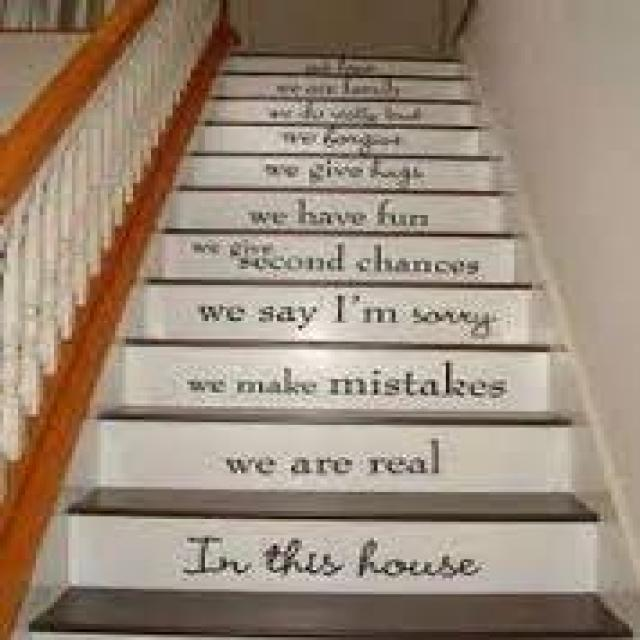Stairs: (115, 4, 608, 604)
